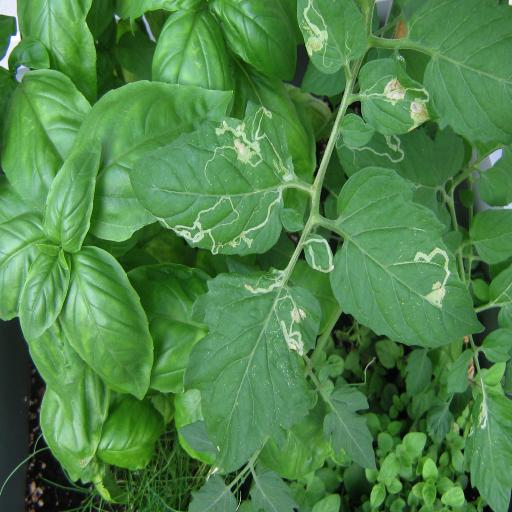disease_tomato: (328, 164, 488, 348), (130, 106, 296, 256), (202, 270, 320, 474), (358, 54, 432, 134), (296, 0, 372, 74)
